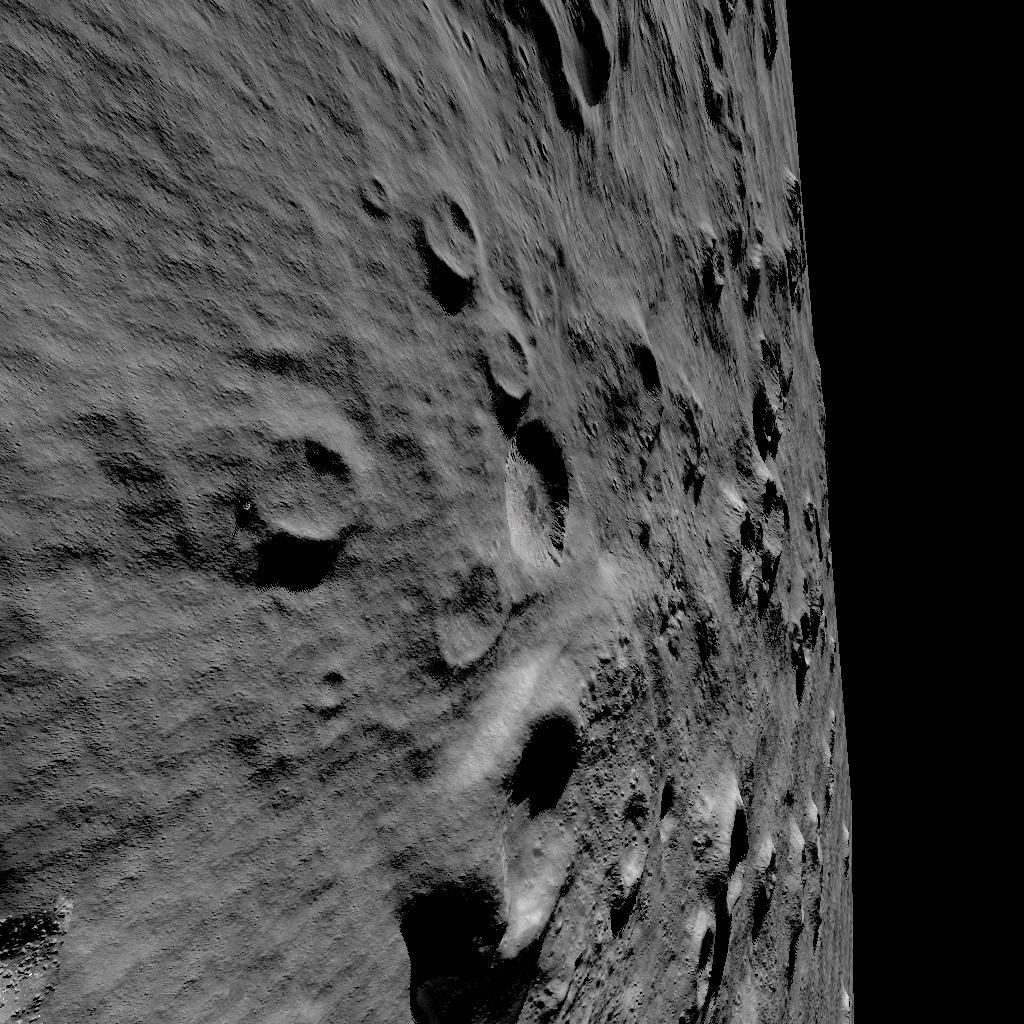Boulders: (0, 800, 86, 1024)
Crater: (403, 705, 603, 1024), (624, 762, 866, 1024), (741, 355, 845, 695), (456, 0, 656, 145), (481, 330, 593, 568), (614, 332, 726, 522), (704, 175, 828, 325), (254, 428, 376, 562), (688, 0, 792, 133), (418, 195, 496, 295)
Plan surface: (0, 0, 405, 415), (0, 428, 236, 788), (104, 802, 390, 1024)
